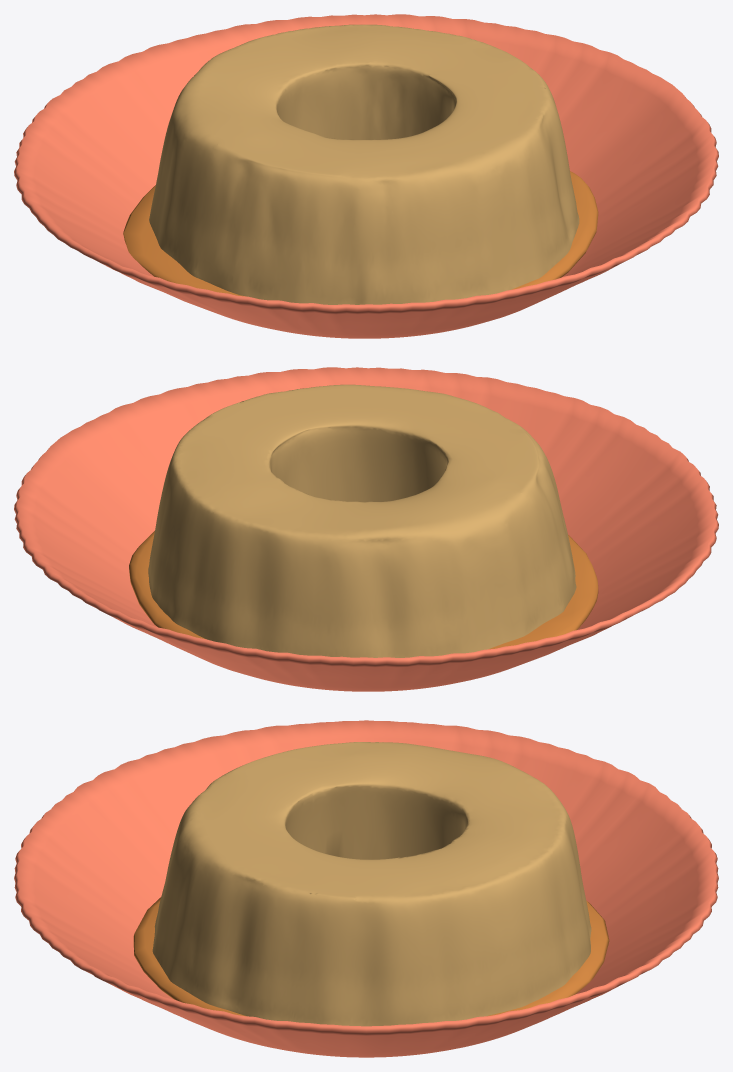
File: typical_brazilian_glass_plate_free.glb
3 renders of one model, top to bottom at view 1: azimuth 30°, elevation 25°; view 2: azimuth 150°, elevation 25°; view 3: azimuth 270°, elevation 25°, orthographic. The views are drawn at different scales.
Parts seen in each view (by area): view 1: Pudim, Prato, Caldo; view 2: Pudim, Prato, Caldo; view 3: Pudim, Prato, Caldo.
Part boxes in pixels (left/top/right/bottom): Pudim: left=149, top=24, right=579, bottom=304; Prato: left=14, top=14, right=718, bottom=338; Caldo: left=123, top=171, right=598, bottom=298; Pudim: left=148, top=384, right=576, bottom=657; Prato: left=14, top=367, right=718, bottom=691; Caldo: left=129, top=531, right=598, bottom=649; Pudim: left=152, top=742, right=591, bottom=1026; Prato: left=14, top=720, right=718, bottom=1057; Caldo: left=133, top=897, right=609, bottom=1016.
Bounding box in the file's own units: 0.3216 × 0.0807 × 0.3101.
